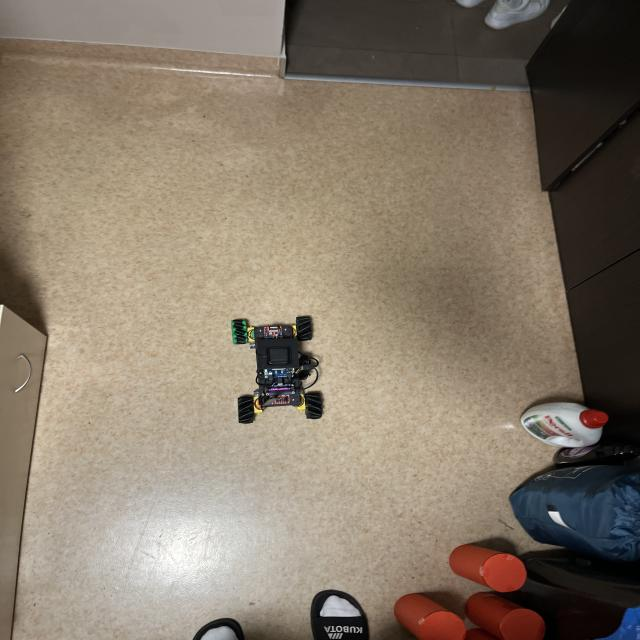robot: (231, 316, 323, 424)
